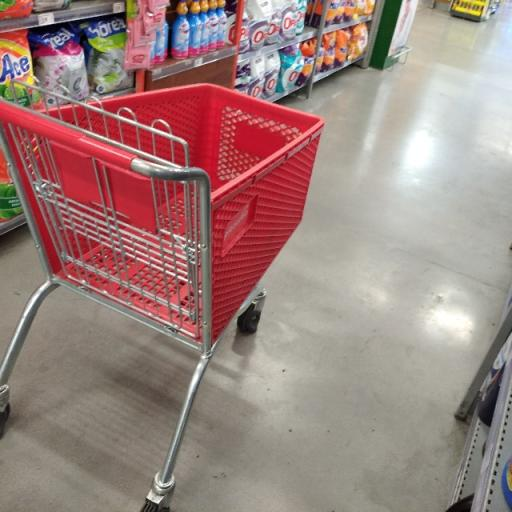shopping_cart: (0, 78, 325, 512)
